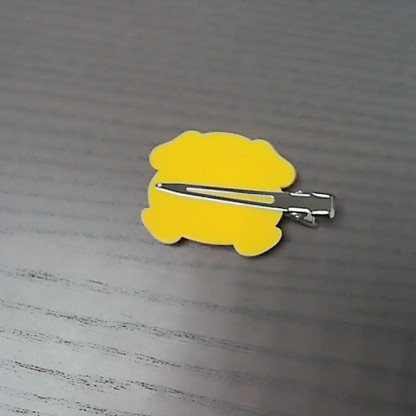dogclip: (136, 124, 335, 259)
